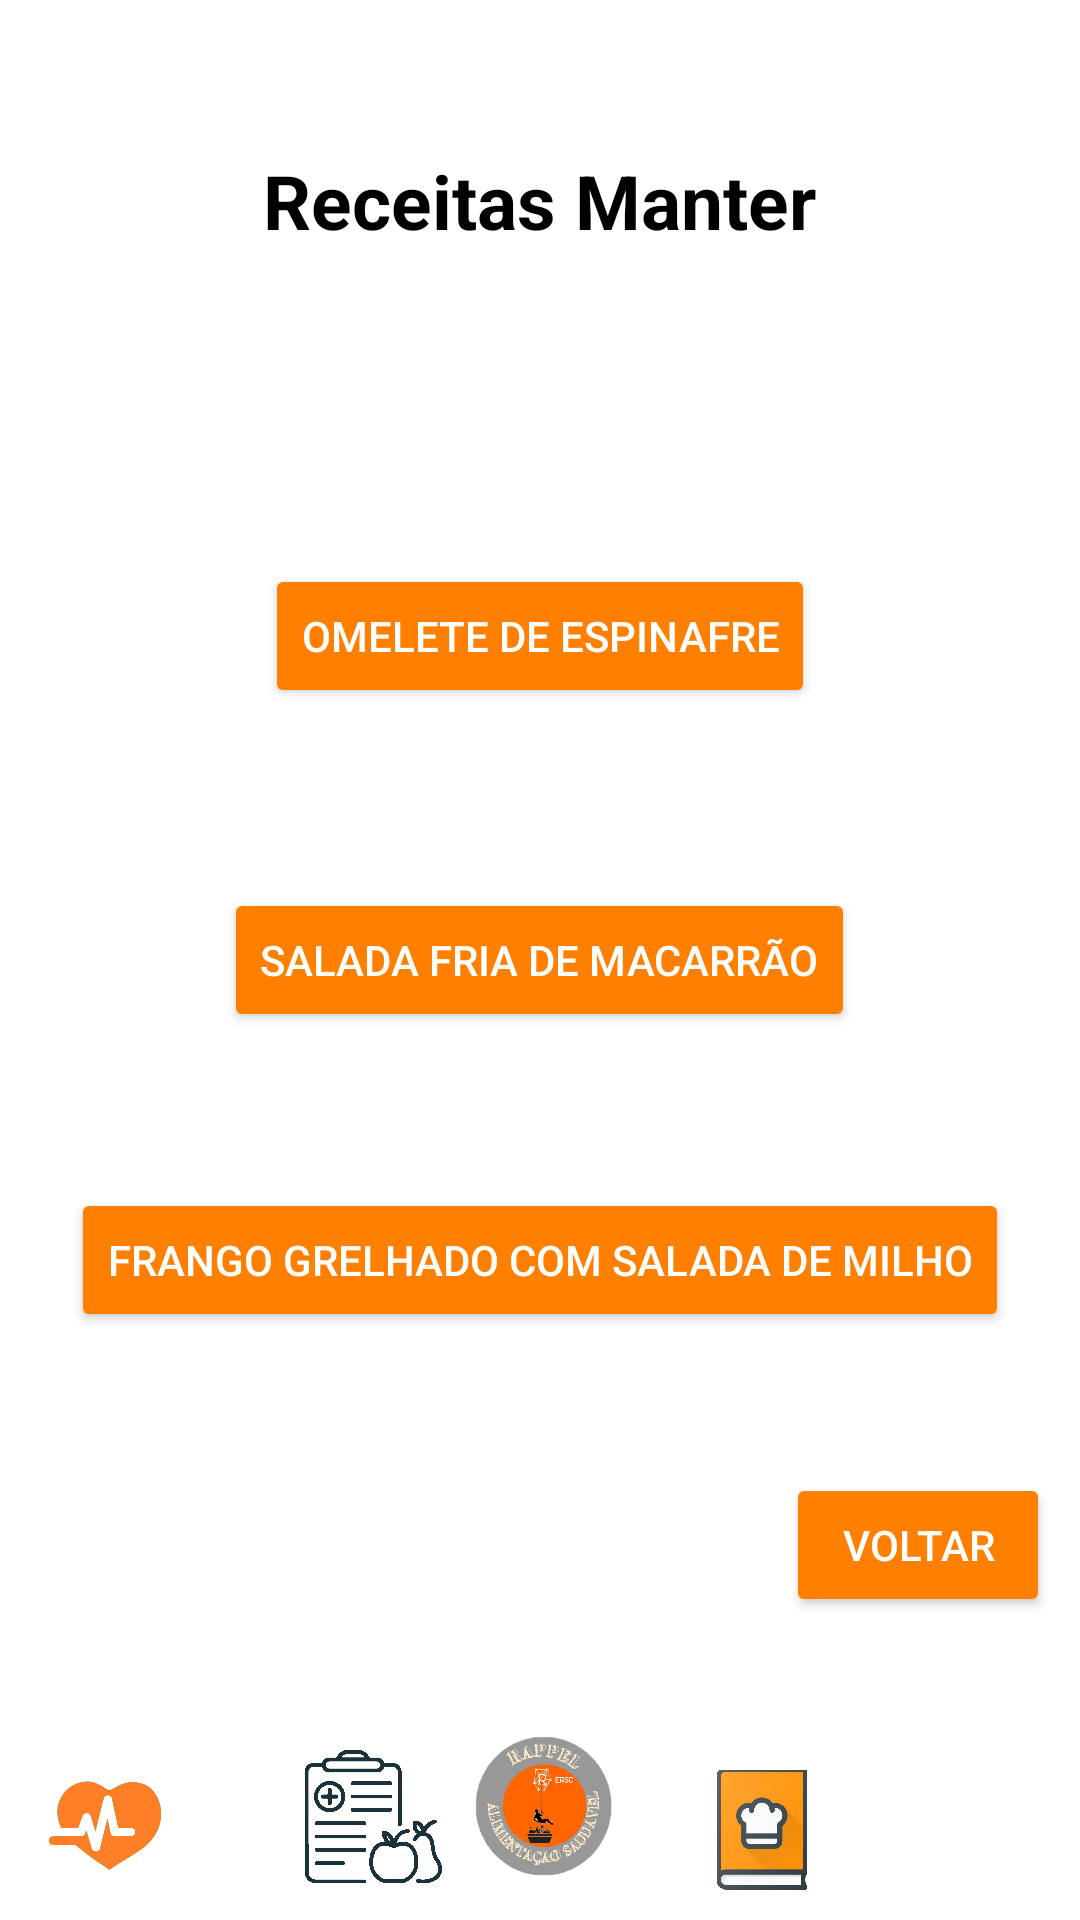

Locate icon controls on the screen. Image size 1080w x 1920h, boxes as (x1, y1, x2, y2).
plano: (304, 1750, 442, 1883)
planodesaude: (49, 1781, 161, 1870)
